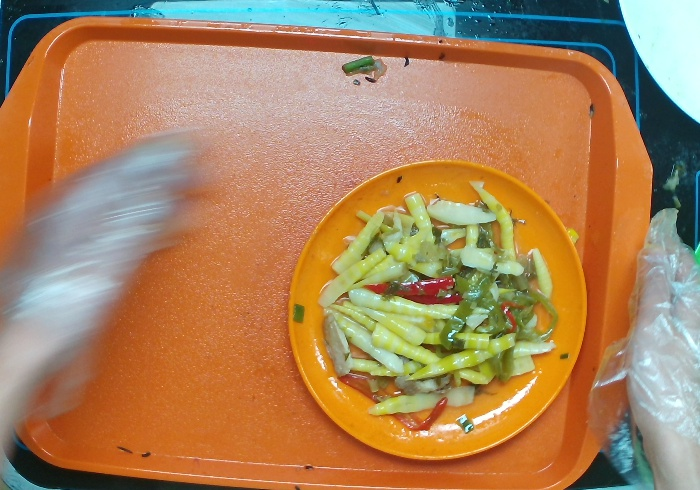HZYJPL-Ju_Huang_Yuan_Pan: (288, 160, 591, 463)
